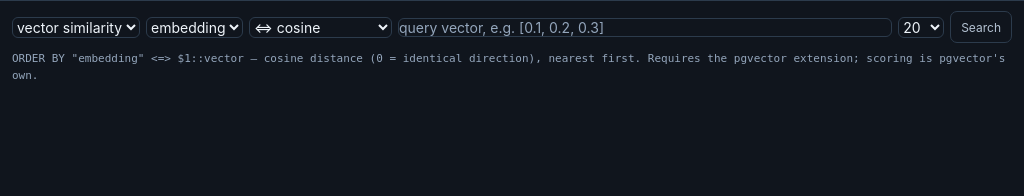
Test: X01 table search panel › renders vector controls when a vector column exists and runs the search
Type "[0.95,0.05,0]" into the field with placeholder "query vector, e.g. [0.1, 0.2, 0.3]" at x=645, y=27, box [398,18,892,36]
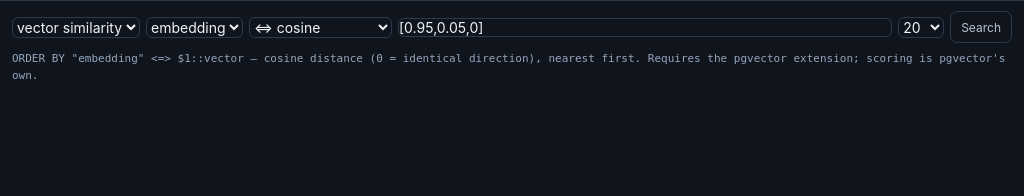
Click the button "Search" at x=981, y=27, box [950,11,1012,43]
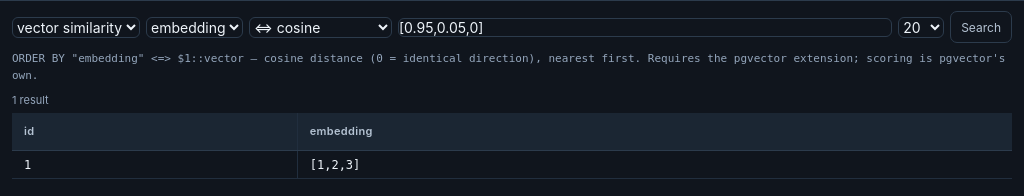
Check: the text "1 result" is shown, box [12,93,49,107]
